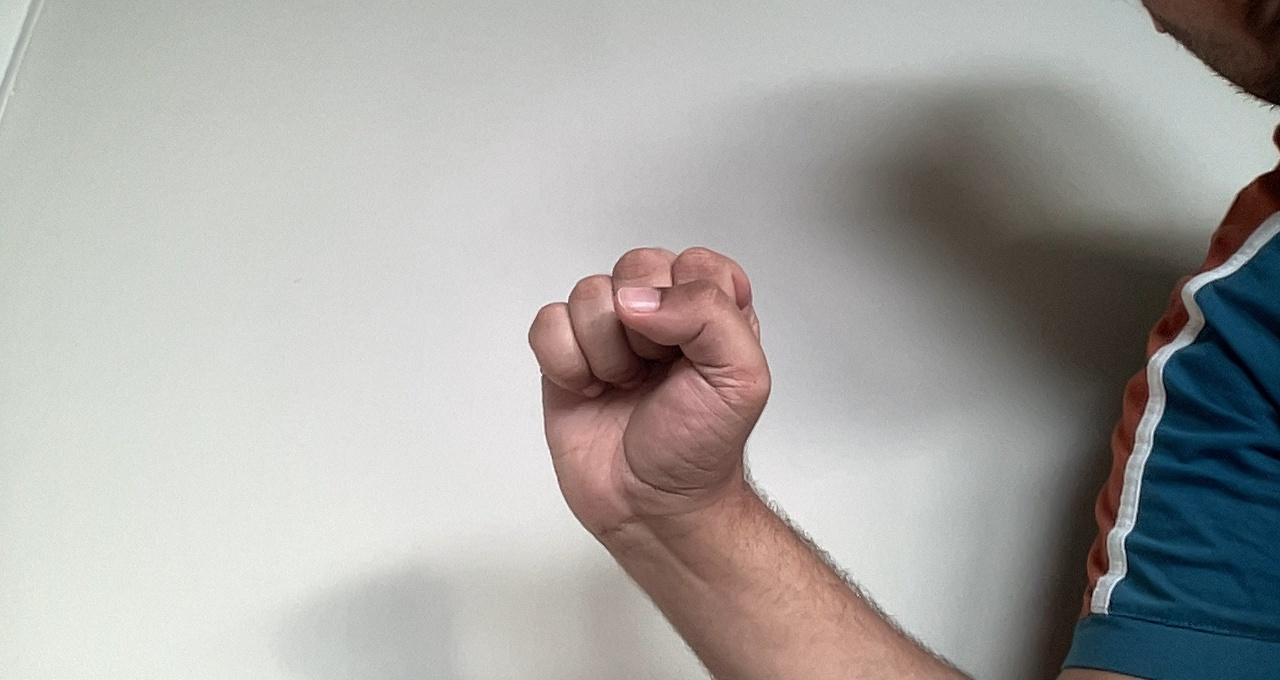closedfist: (509, 230, 788, 546)
